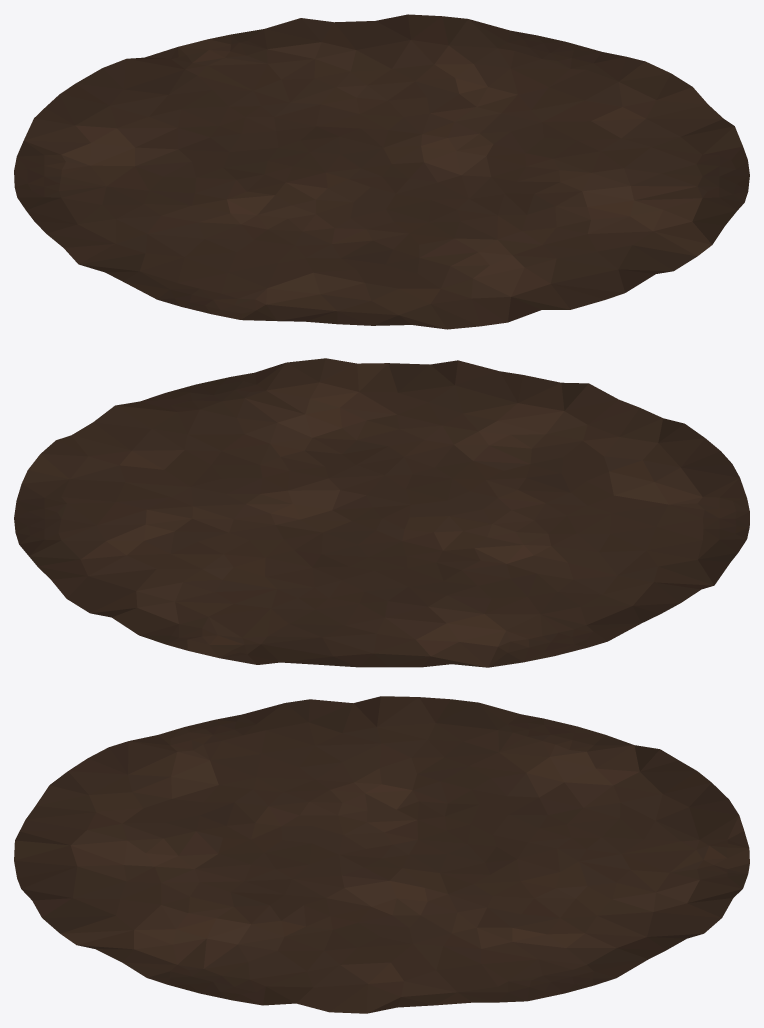
File: tl_cave_main_floor_v01.glb
3 views of the same model, one above another, from view 1: azimuth 30°, elevation 25°; view 2: azimuth 150°, elevation 25°; view 3: azimuth 270°, elevation 25° (orthographic).
Visible parts, largest first — view 1: tl_cave_main_floor_v01; view 2: tl_cave_main_floor_v01; view 3: tl_cave_main_floor_v01.
Part boxes in pixels (<box>): tl_cave_main_floor_v01: <box>14,14,749,329</box>; tl_cave_main_floor_v01: <box>14,358,749,667</box>; tl_cave_main_floor_v01: <box>14,696,749,1013</box>.
Bounding box in the file's own units: 50.38 × 0.558 × 50.38.
